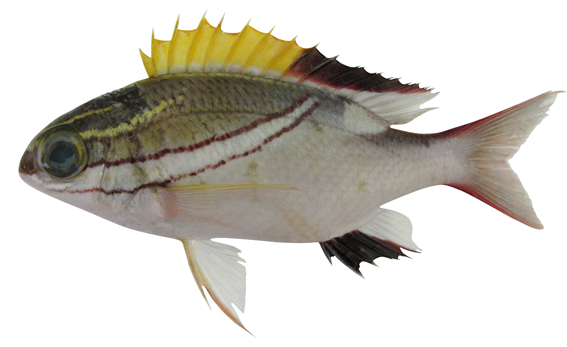fish: (18, 9, 565, 337)
